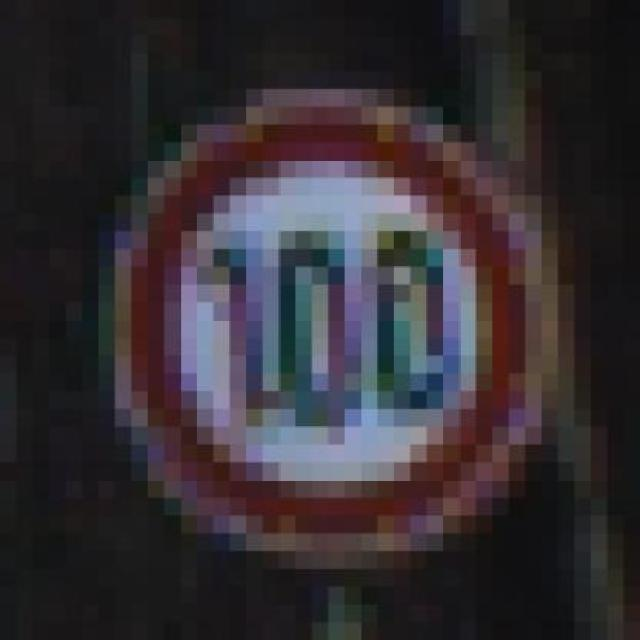forb_speed_over_100: (130, 102, 533, 548)
